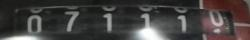digits: (64, 10, 79, 32), (26, 15, 42, 32), (208, 10, 224, 27), (102, 12, 112, 32), (176, 14, 187, 32), (139, 12, 150, 28)
